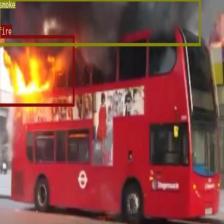fire: (0, 35, 74, 106)
smoke: (0, 0, 200, 46)
